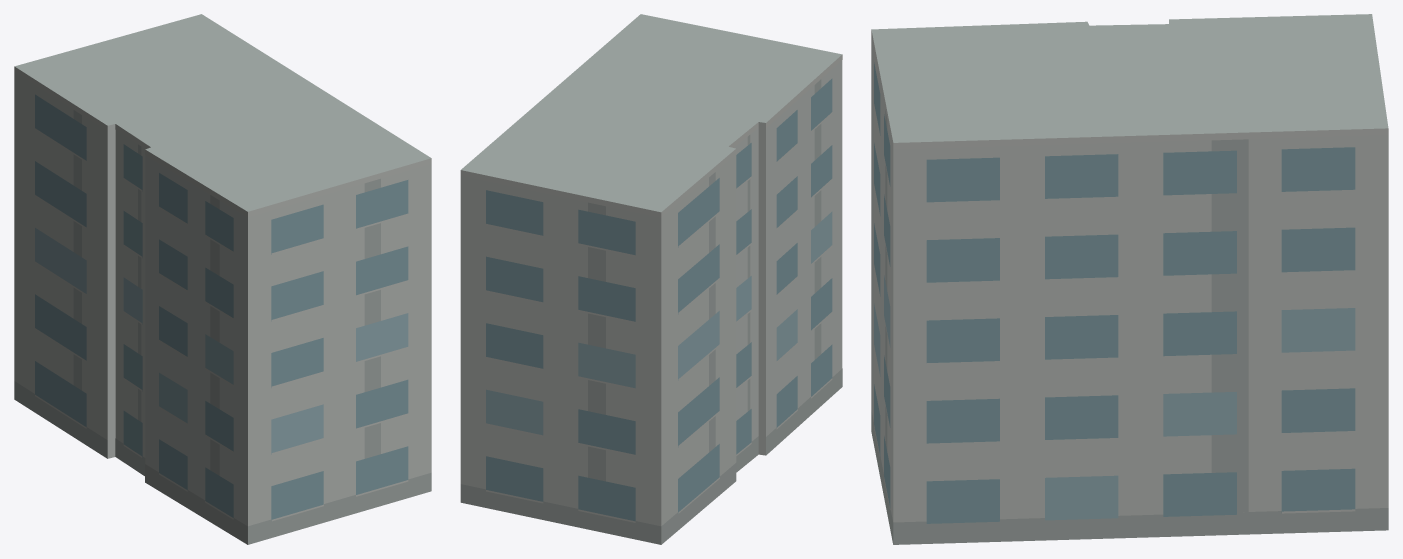
The model's file is survey-upis-32561279.glb.
3 renders of one model, left to right at view 1: azimuth 30°, elevation 25°; view 2: azimuth 150°, elevation 25°; view 3: azimuth 270°, elevation 25°, orthographic. The views are drawn at different scales.
Visible parts, largest first — view 1: survey-upis-32561279.tmp; view 2: survey-upis-32561279.tmp; view 3: survey-upis-32561279.tmp.
Part boxes in pixels (bbox=[...]): survey-upis-32561279.tmp: bbox=[14, 14, 431, 544]; survey-upis-32561279.tmp: bbox=[460, 14, 842, 544]; survey-upis-32561279.tmp: bbox=[871, 14, 1388, 544].
Size of the model in its own units: 9.85 by 14.3 by 16.68.
